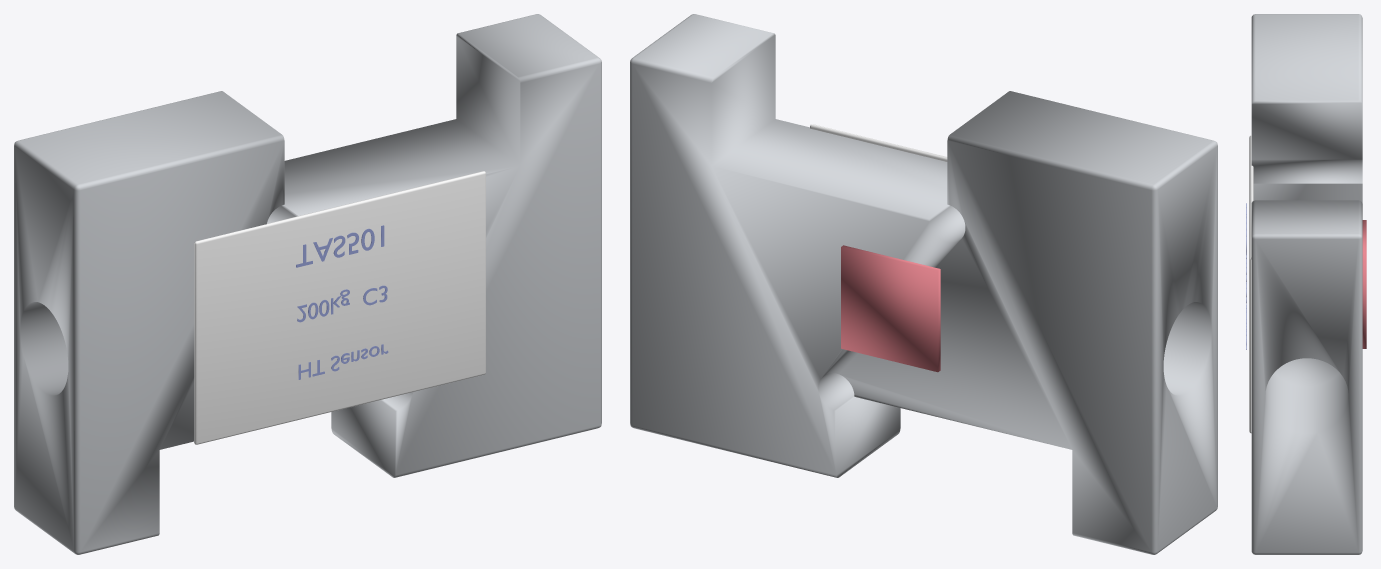
The model's file is tas501.glb.
3 renders of one model, left to right at view 1: azimuth 30°, elevation 25°; view 2: azimuth 150°, elevation 25°; view 3: azimuth 270°, elevation 25°, orthographic. The views are drawn at different scales.
Visible parts, largest first — view 1: body, label, text, text.001; view 2: body, web, label; view 3: body, label, web.
Boxes of the visible parts, bbox=[...] form: body: bbox=[14, 14, 601, 554]; label: bbox=[194, 171, 485, 444]; text: bbox=[296, 225, 384, 267]; text.001: bbox=[297, 285, 387, 322]; body: bbox=[630, 14, 1217, 554]; web: bbox=[841, 245, 940, 372]; label: bbox=[810, 124, 947, 161]; body: bbox=[1251, 14, 1362, 554]; label: bbox=[1249, 135, 1253, 433]; web: bbox=[1362, 220, 1366, 348].
Bounding box in the file's own units: 76 × 51 × 17.36.
